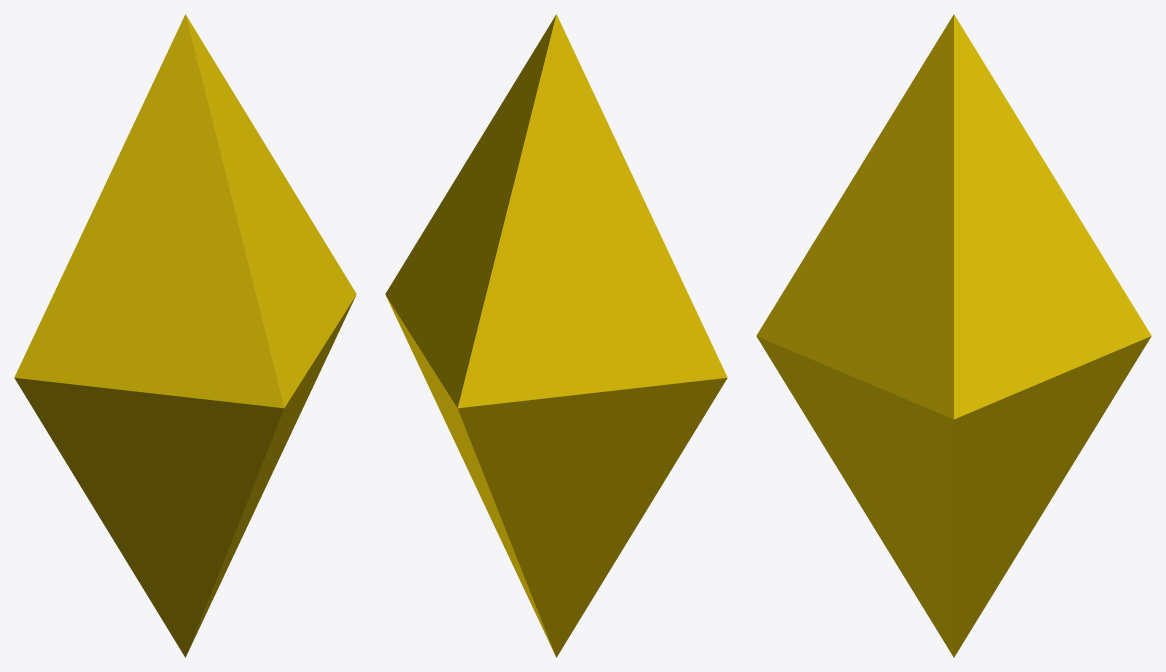
Rendered from Diamond Yellow.fbx.
The picture shows the model from 3 angles, left to right: view 1: azimuth 30°, elevation 25°; view 2: azimuth 150°, elevation 25°; view 3: azimuth 270°, elevation 25°; orthographic projection.
Parts seen in each view (by area): view 1: Cube; view 2: Cube; view 3: Cube.
Part boxes in pixels (<box>): Cube: <box>14,14,356,657</box>; Cube: <box>385,14,727,657</box>; Cube: <box>756,14,1151,657</box>.
Size of the model in its own units: 200 by 359 by 200.
